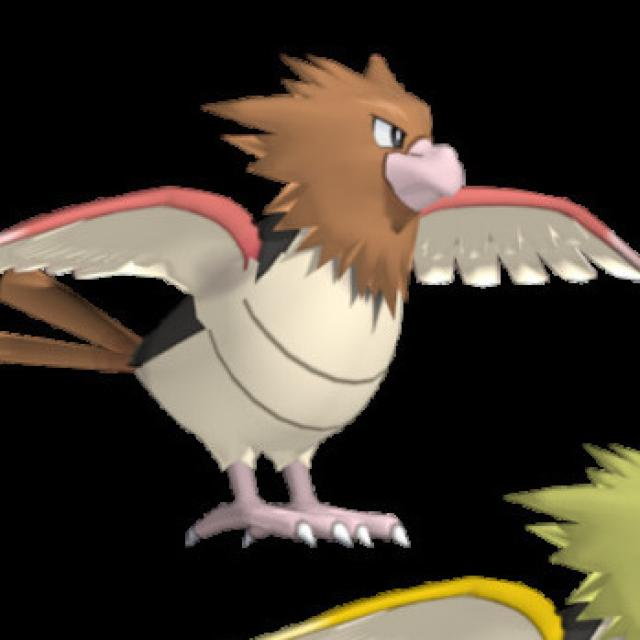Spearow: (119, 51, 472, 531)
